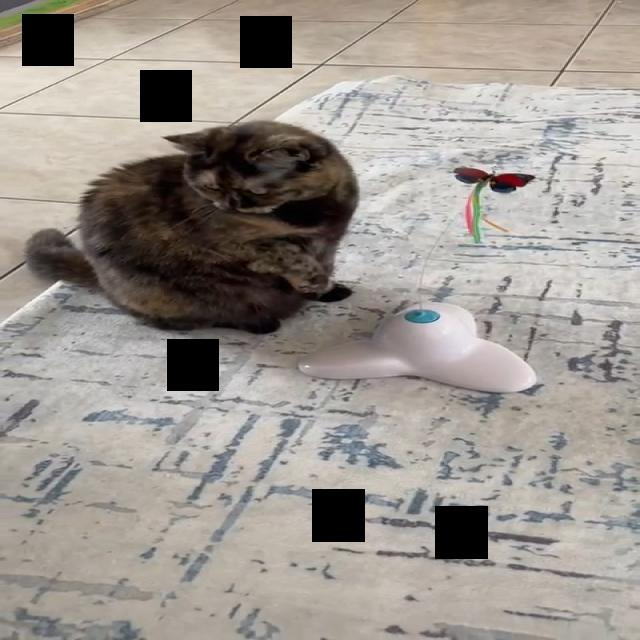authorized: (22, 120, 358, 334)
